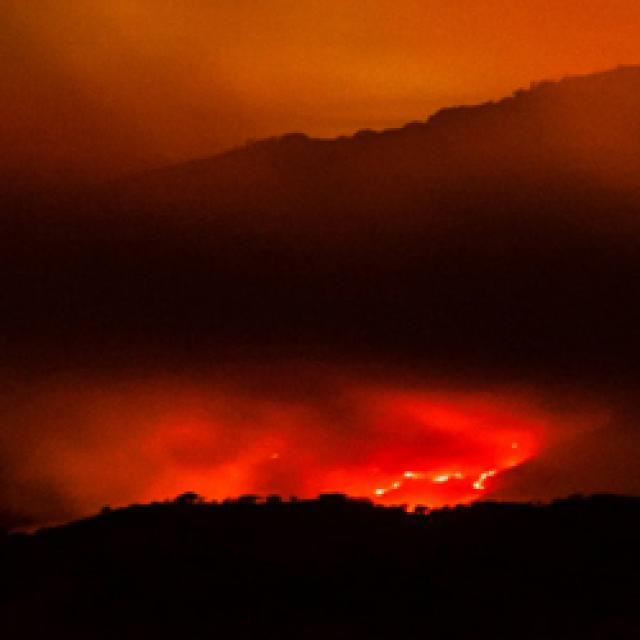Fire: (376, 468, 458, 498), (470, 471, 496, 494)
Smoke: (0, 0, 640, 236), (0, 365, 640, 517)
